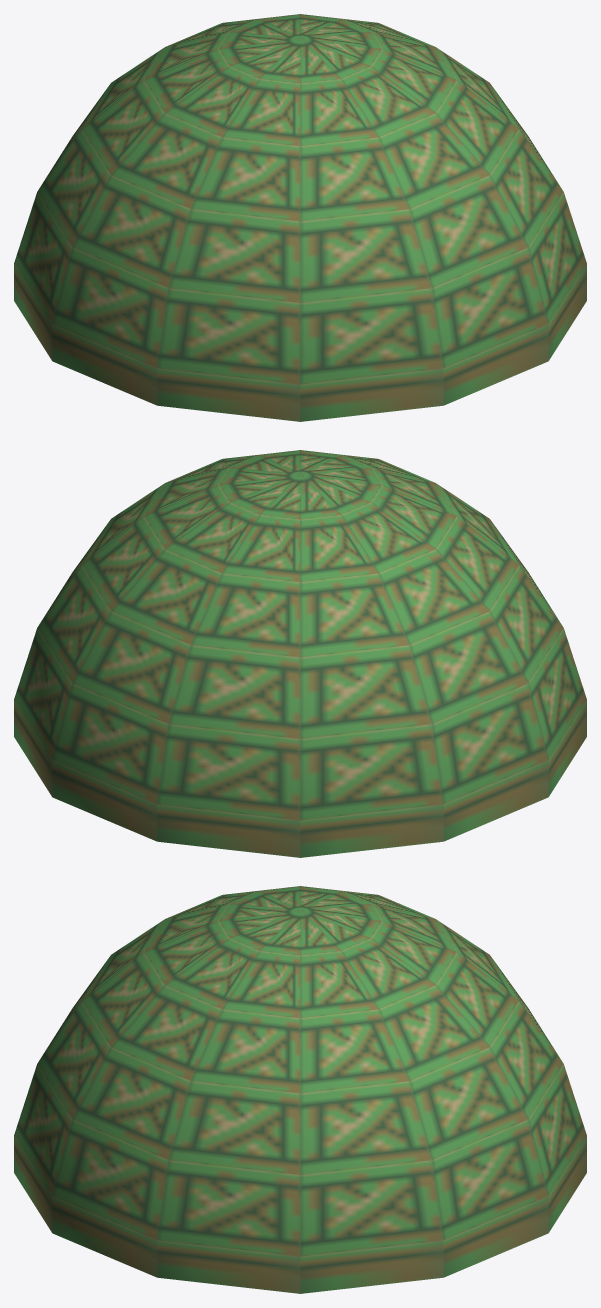
File: sphere-half-8x8x8.obj
3 renders of one model, top to bottom at view 1: azimuth 30°, elevation 25°; view 2: azimuth 150°, elevation 25°; view 3: azimuth 270°, elevation 25°, orthographic.
Parts seen in each view (by area): view 1: Default; view 2: Default; view 3: Default.
Part boxes in pixels (x1,y1,x2,y2): Default: (14,14,586,421); Default: (14,450,586,857); Default: (14,886,586,1293).
Bounding box in the file's own units: 0.99 × 0.5001 × 0.99.
